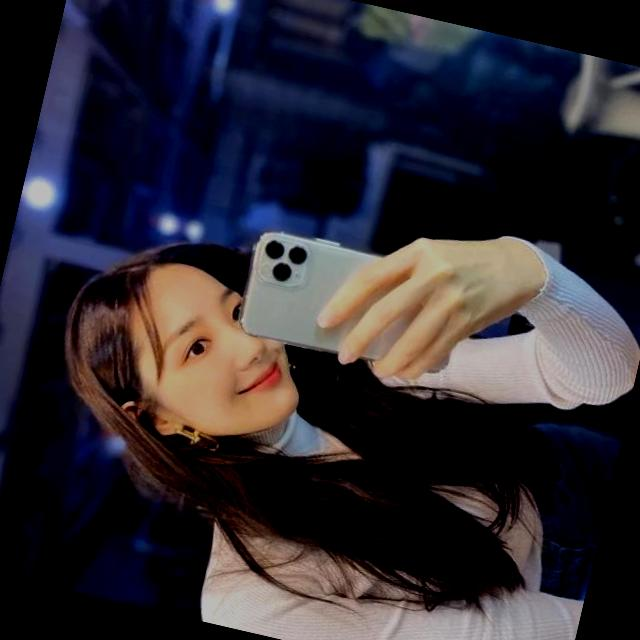lens_back: (262, 235, 287, 261), (269, 259, 292, 283), (284, 242, 308, 265)
phone: (228, 220, 474, 384)
